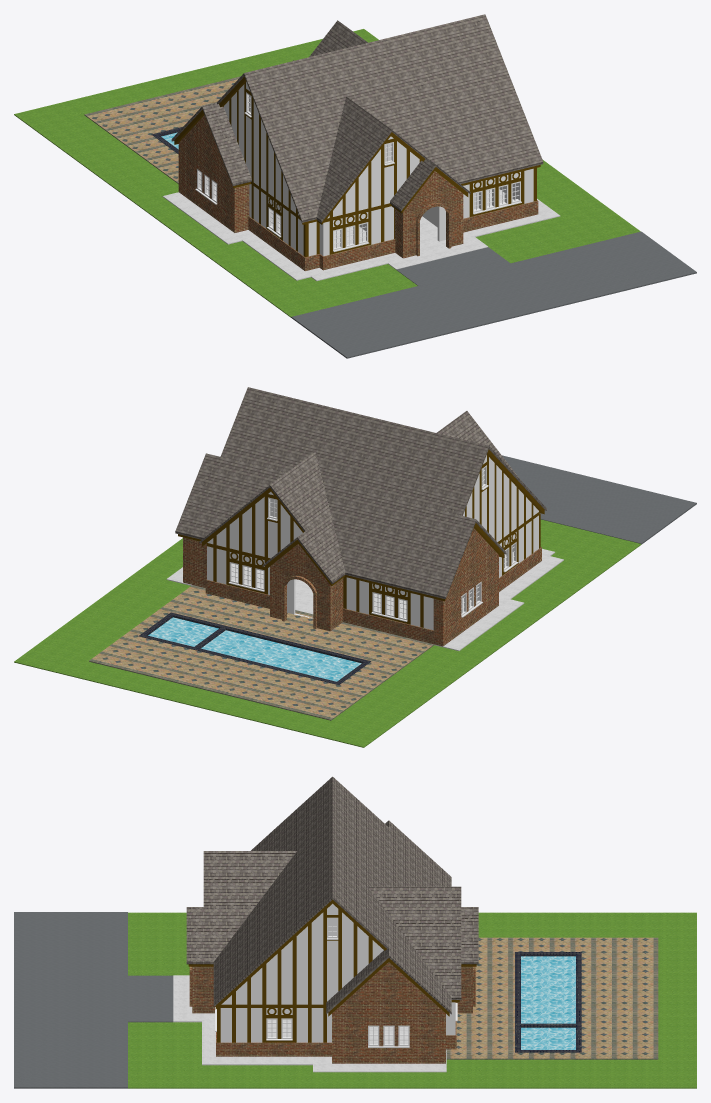
File: project01d.glb
The picture shows the model from 3 angles, top to bottom: view 1: azimuth 30°, elevation 25°; view 2: azimuth 150°, elevation 25°; view 3: azimuth 270°, elevation 25°; orthographic projection. The views are drawn at different scales.
Visible parts, largest first — view 1: group_41.002, group_46.002, group_46.003, group_0.001, group_52, group_51, group_43.001, group_0.003, group_43, group_41.001, group_41, group_43.002 (+5 smaller); view 2: group_41.002, group_46.002, group_51, group_0.001, group_46.003, group_42.001, group_52, group_50, group_42, group_41.001, group_49, group_41 (+10 smaller); view 3: group_46.002, group_41.002, group_46.003, group_51, group_0.001, group_42.001, group_43.001, group_41.001, group_52, group_50, group_41, group_41.018 (+4 smaller).
Part boxes in pixels (x1=…): group_41.002: x1=171, y1=14, x2=543, y2=222; group_46.002: x1=14, y1=29, x2=640, y2=317; group_46.003: x1=291, y1=231, x2=696, y2=358; group_0.001: x1=178, y1=142, x2=538, y2=270; group_52: x1=162, y1=185, x2=560, y2=281; group_51: x1=84, y1=76, x2=240, y2=183; group_43.001: x1=316, y1=96, x2=470, y2=222; group_0.003: x1=251, y1=181, x2=394, y2=257; group_43: x1=327, y1=136, x2=419, y2=218; group_41.001: x1=246, y1=82, x2=298, y2=215; group_41: x1=219, y1=76, x2=540, y2=224; group_43.002: x1=317, y1=132, x2=424, y2=224; group_41.002: x1=175, y1=387, x2=546, y2=599; group_46.002: x1=14, y1=519, x2=641, y2=747; group_51: x1=89, y1=585, x2=434, y2=720; group_0.001: x1=183, y1=537, x2=541, y2=646; group_46.003: x1=502, y1=455, x2=696, y2=544; group_42.001: x1=199, y1=452, x2=345, y2=584; group_52: x1=166, y1=548, x2=563, y2=650; group_50: x1=201, y1=630, x2=361, y2=681; group_42: x1=207, y1=492, x2=302, y2=558; group_41.001: x1=483, y1=455, x2=538, y2=541; group_49: x1=139, y1=612, x2=370, y2=684; group_41: x1=465, y1=449, x2=544, y2=540; group_46.002: x1=128, y1=912, x2=696, y2=1088; group_41.002: x1=213, y1=776, x2=451, y2=1014; group_46.003: x1=14, y1=912, x2=173, y2=1088; group_51: x1=446, y1=937, x2=658, y2=1059; group_0.001: x1=189, y1=966, x2=475, y2=1063; group_42.001: x1=368, y1=886, x2=478, y2=999; group_43.001: x1=186, y1=851, x2=296, y2=964; group_41.001: x1=221, y1=903, x2=383, y2=1004; group_52: x1=173, y1=975, x2=446, y2=1072; group_50: x1=521, y1=956, x2=575, y2=1023; group_41: x1=215, y1=899, x2=386, y2=1009; group_41.018: x1=334, y1=962, x2=443, y2=1011.
Bounding box in the file's own units: 21.83 × 9.94 × 35.98.
10 materials, 8 textured.
